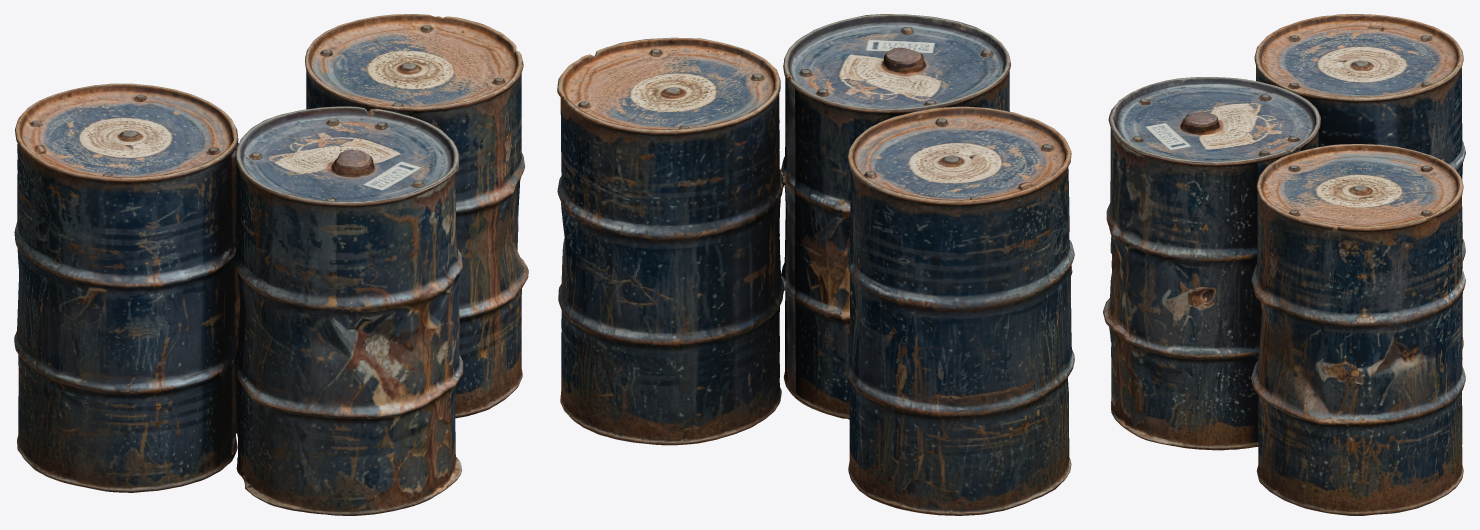
Rendered from SteelDrums.glb.
3 views of the same model, side by side, from view 1: azimuth 30°, elevation 25°; view 2: azimuth 150°, elevation 25°; view 3: azimuth 270°, elevation 25° (orthographic). The views are drawn at different scales.
Visible parts, largest first — view 1: texture_mapping; view 2: texture_mapping; view 3: texture_mapping.
Part boxes in pixels (left/top/right/bottom): texture_mapping: left=14, top=14, right=528, bottom=515; texture_mapping: left=557, top=14, right=1074, bottom=515; texture_mapping: left=1103, top=14, right=1465, bottom=515.
Bounding box in the file's own units: 0.9985 × 0.6326 × 0.7127.
Materials: 1 (1 with a texture image).
